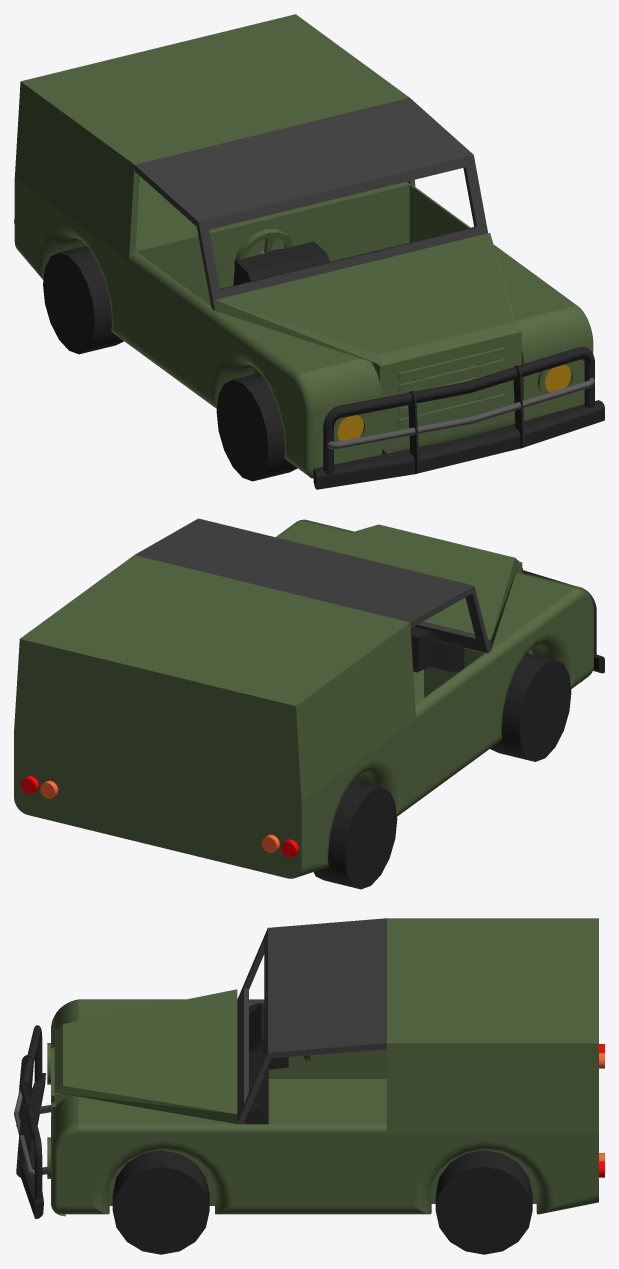
File: landrover.fbx
The picture shows the model from 3 angles, top to bottom: view 1: azimuth 30°, elevation 25°; view 2: azimuth 150°, elevation 25°; view 3: azimuth 270°, elevation 25°; orthographic projection. The views are drawn at different scales.
Parts seen in each view (by area): view 1: box1, box18, box16, Component_2_1, box3, box20, box2, box, cylinder11, cylinder9, box22, cylinder2 (+3 smaller); view 2: box1, box18, box16, box20, cylinder11, cylinder9, box3, box2, box, box19, box22; view 3: box1, box18, box17, box16, box2, box3, cylinder10, cylinder8, Component_2_1, box, box19, box21.
Part boxes in pixels (x1=…): box1: x1=14, y1=176, x2=593, y2=478; box18: x1=21, y1=14, x2=409, y2=164; box16: x1=134, y1=97, x2=473, y2=226; Component_2_1: x1=313, y1=347, x2=604, y2=489; box3: x1=215, y1=266, x2=450, y2=365; box20: x1=15, y1=82, x2=139, y2=260; box2: x1=353, y1=233, x2=518, y2=348; box: x1=195, y1=155, x2=487, y2=310; cylinder11: x1=43, y1=246, x2=123, y2=354; cylinder9: x1=216, y1=373, x2=297, y2=481; box22: x1=233, y1=241, x2=326, y2=285; cylinder2: x1=537, y1=362, x2=578, y2=399; box1: x1=14, y1=519, x2=593, y2=878; box18: x1=19, y1=555, x2=409, y2=712; box16: x1=134, y1=518, x2=473, y2=628; box20: x1=290, y1=623, x2=415, y2=802; cylinder11: x1=313, y1=780, x2=397, y2=889; cylinder9: x1=490, y1=653, x2=571, y2=761; box3: x1=406, y1=541, x2=519, y2=650; box2: x1=308, y1=524, x2=446, y2=568; box: x1=414, y1=586, x2=490, y2=653; box19: x1=428, y1=640, x2=464, y2=671; box22: x1=410, y1=627, x2=431, y2=672; box1: x1=51, y1=999, x2=598, y2=1216; box18: x1=387, y1=918, x2=598, y2=1043; box17: x1=387, y1=1043, x2=598, y2=1132; box16: x1=268, y1=918, x2=386, y2=1058; box2: x1=54, y1=1051, x2=237, y2=1123; box3: x1=54, y1=989, x2=237, y2=1061; cylinder10: x1=435, y1=1150, x2=532, y2=1254; cylinder8: x1=112, y1=1150, x2=209, y2=1254; Component_2_1: x1=14, y1=1025, x2=45, y2=1218; box: x1=237, y1=928, x2=272, y2=1124; box19: x1=244, y1=1002, x2=268, y2=1124; box21: x1=249, y1=1004, x2=264, y2=1052.
Bounding box in the file's own units: 2.68 × 1.87 × 4.88.
